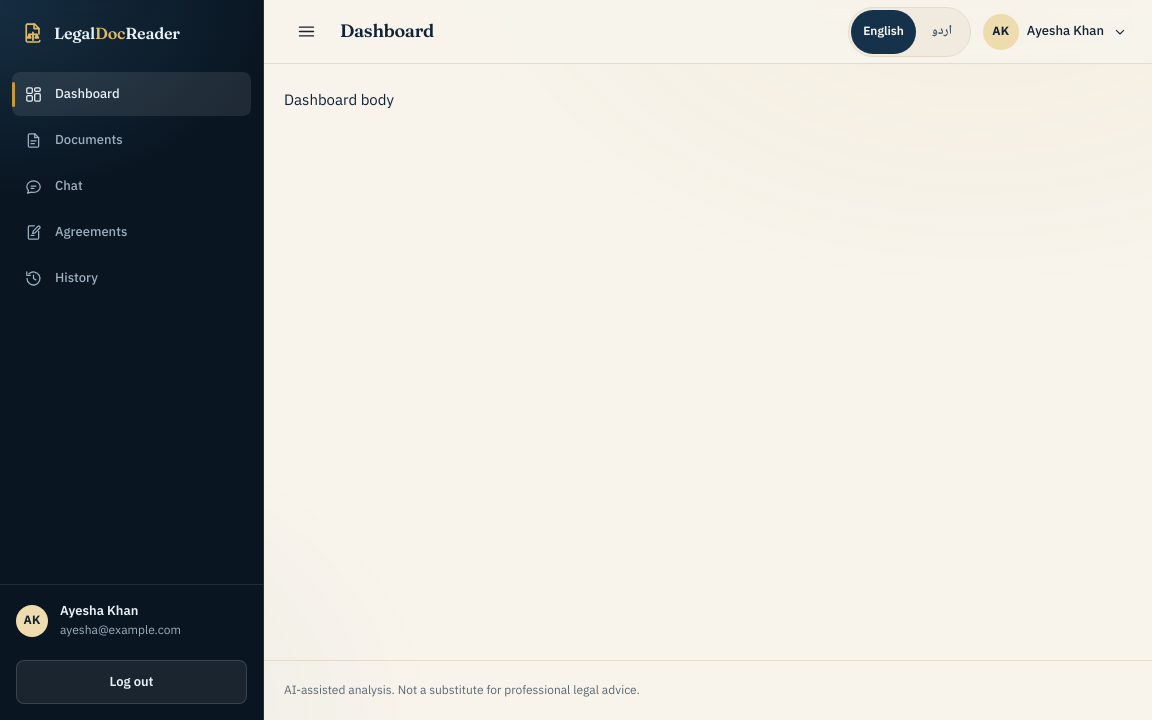
Test case: AppShell user menu › shows the signed-in identity from /auth/me
Expected: the text "Dashboard body" is shown, [284, 90, 394, 109]
Click the button with aria-label "Account menu" at (1055, 32), box [979, 10, 1132, 54]
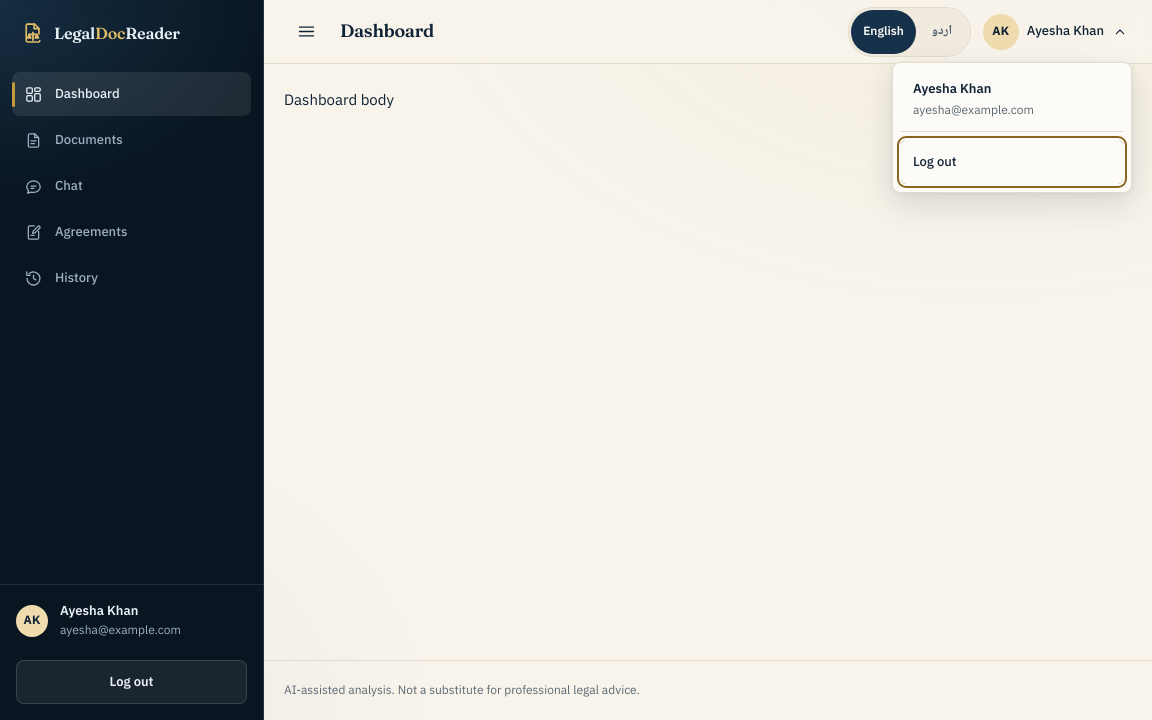
Expected: the 2nd text "Ayesha Khan" is shown, [913, 80, 991, 96]
Expected: the text "ayesha@example.com" in the row of "Dashboard body" is shown, [913, 102, 1034, 117]
